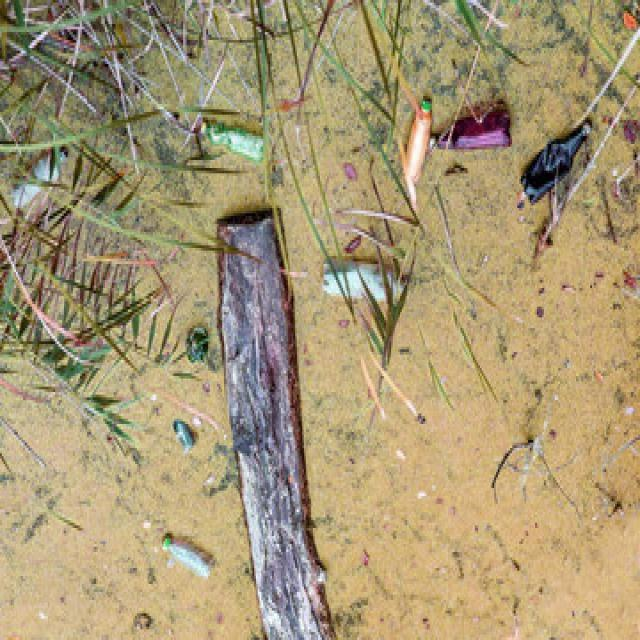Plastic: (520, 110, 592, 204), (6, 137, 73, 211), (429, 110, 510, 152), (198, 119, 268, 162), (163, 532, 218, 577)
Trash: (320, 255, 425, 308), (168, 412, 198, 454)
